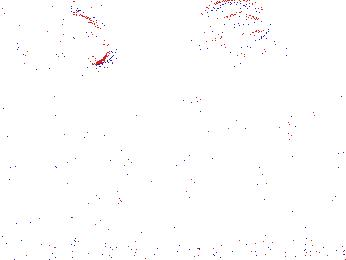moon jellyfish: (264, 109, 333, 179), (167, 80, 236, 140), (5, 1, 63, 68), (193, 1, 272, 50), (61, 9, 119, 67)
